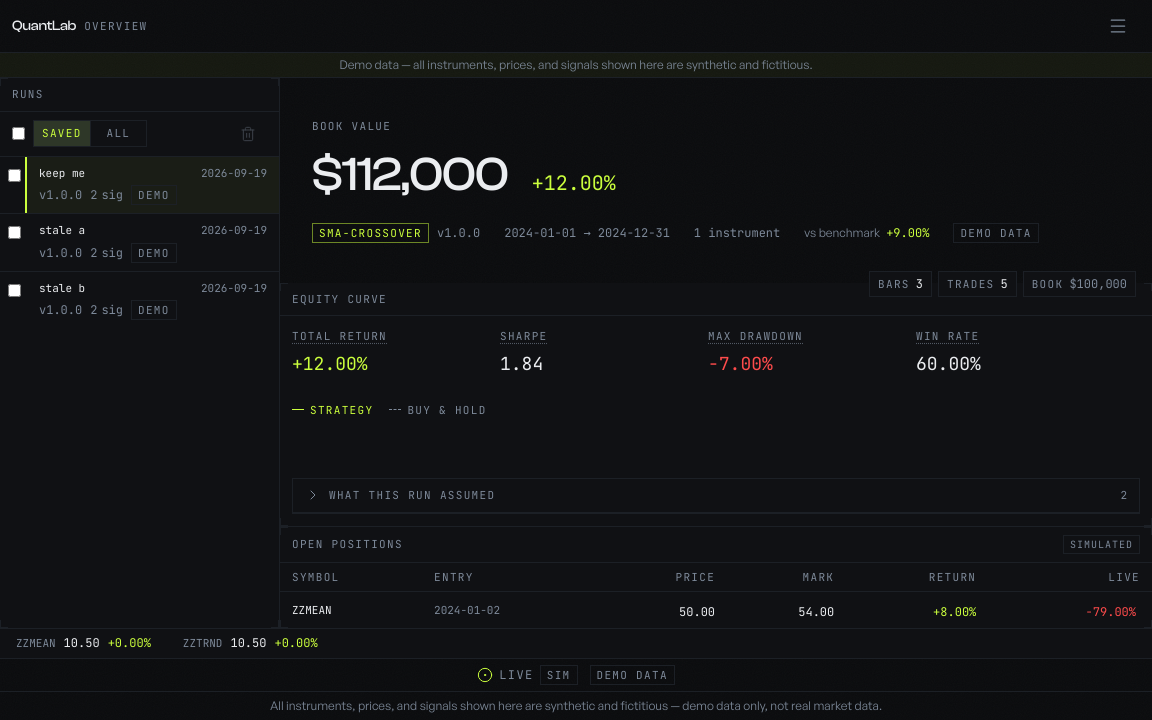
Scenario: Overview › removes several ticked runs in bulk behind the one delete icon
Click the checkbox named "select run stale a" at (14, 232), box [8,226,21,239]
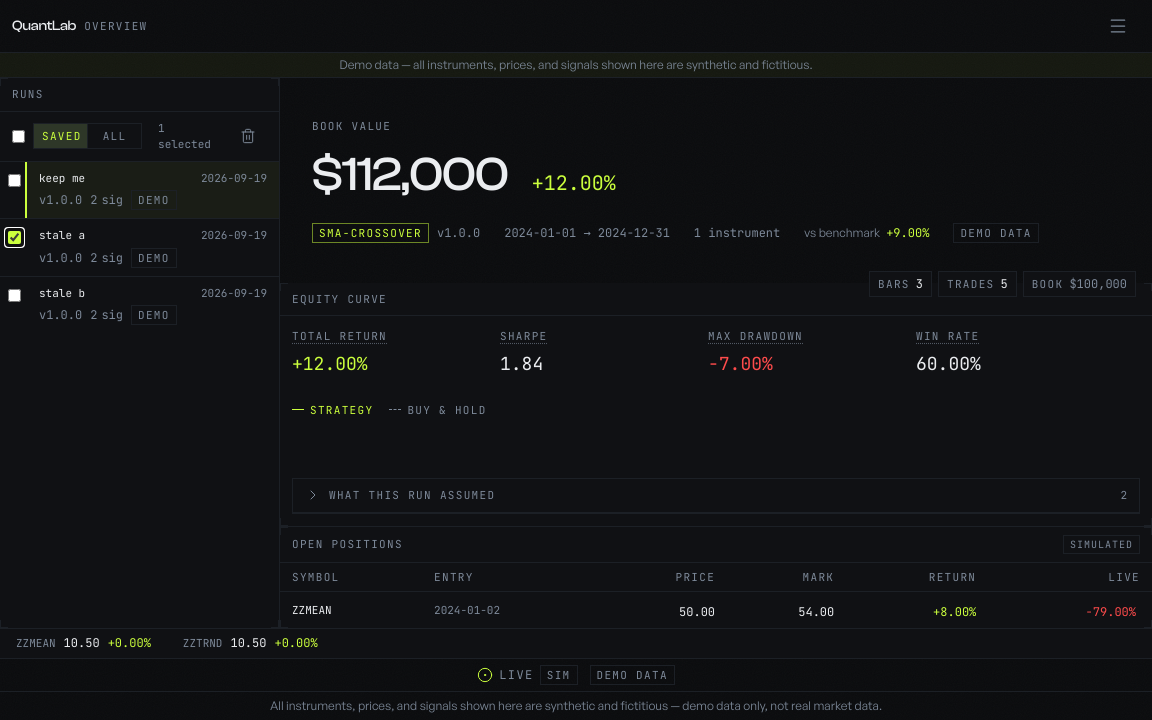
Click the checkbox named "select run stale b" at (14, 295), box [8,288,21,302]
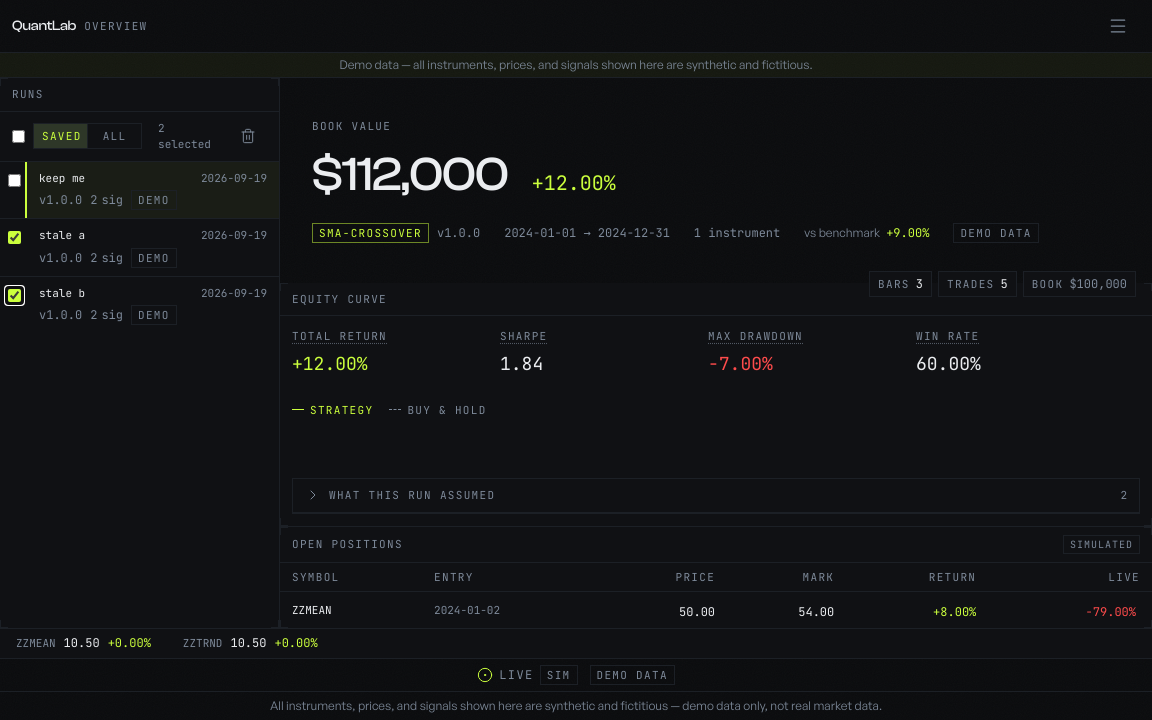
Expected: the text with test id "runs-selected-count" reads "2 selected", [158,120,211,151]
Click the button named "delete selected runs" at (248, 136), box [229,122,267,150]
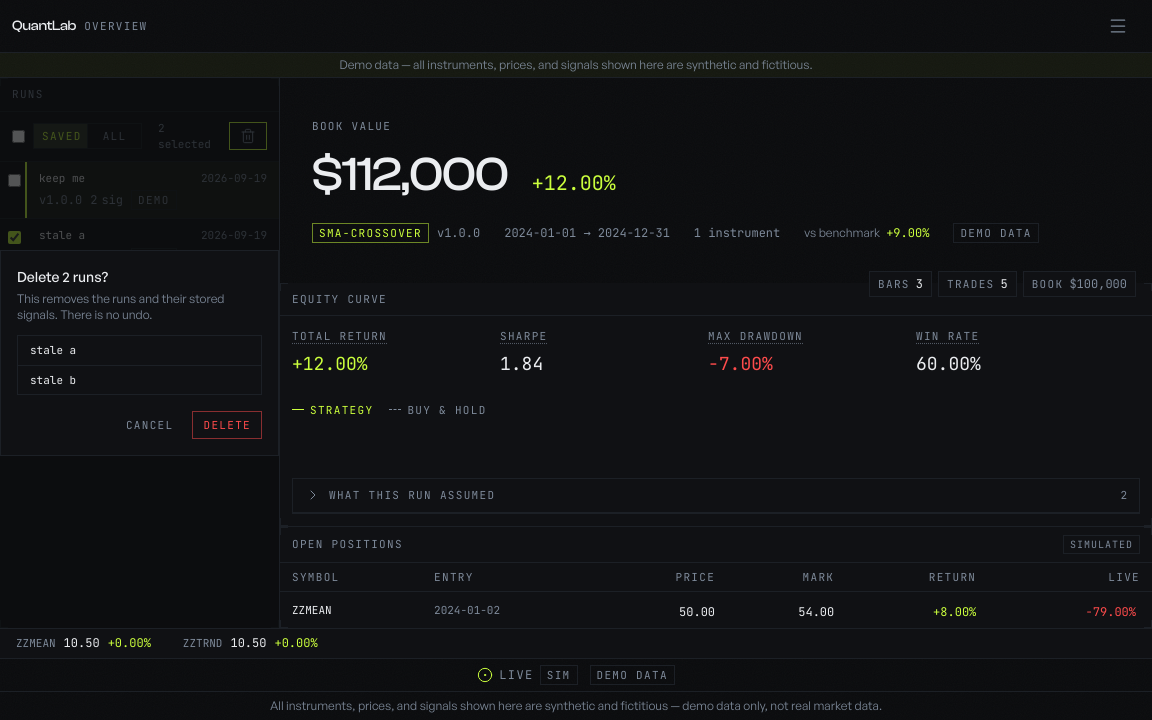
Expected: the list item "stale a" is shown, [30,343,76,357]
Expected: the list item "stale b" is shown, [18,364,261,394]
Click the button "Delete" at (227, 425), box [192,411,262,439]
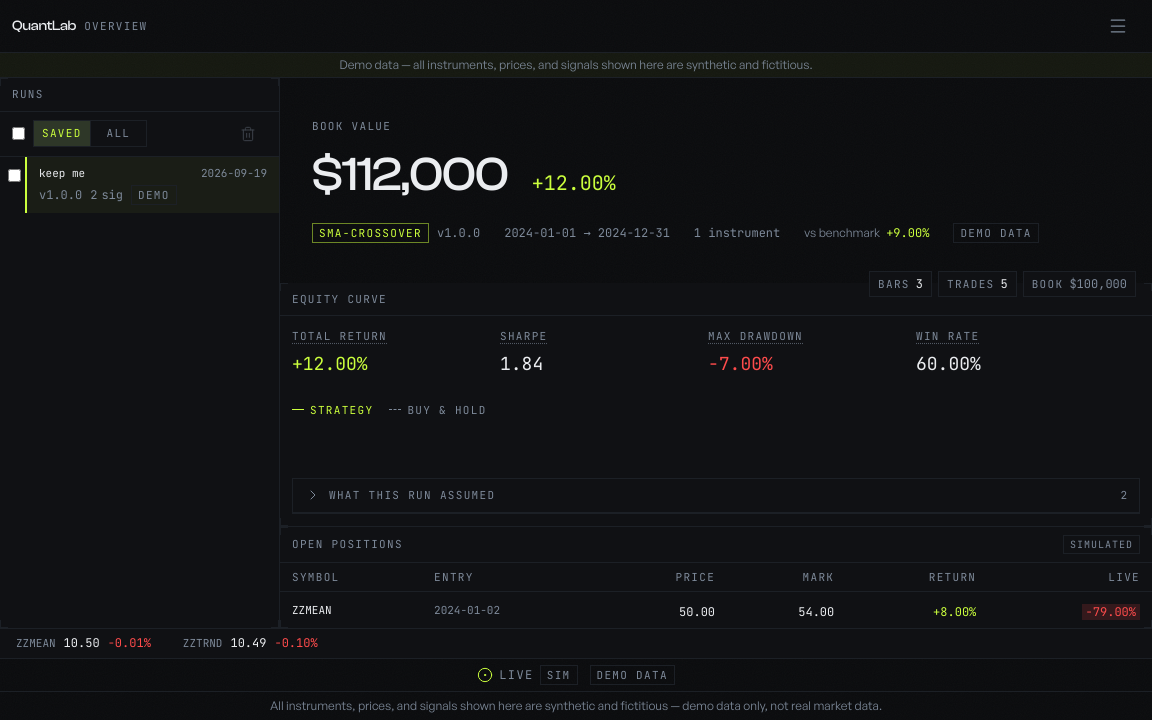
Expected: the text "keep me" is shown, [39,164,85,181]
Expected: the button "stale a" is gone
Expected: the button "stale b" is gone
